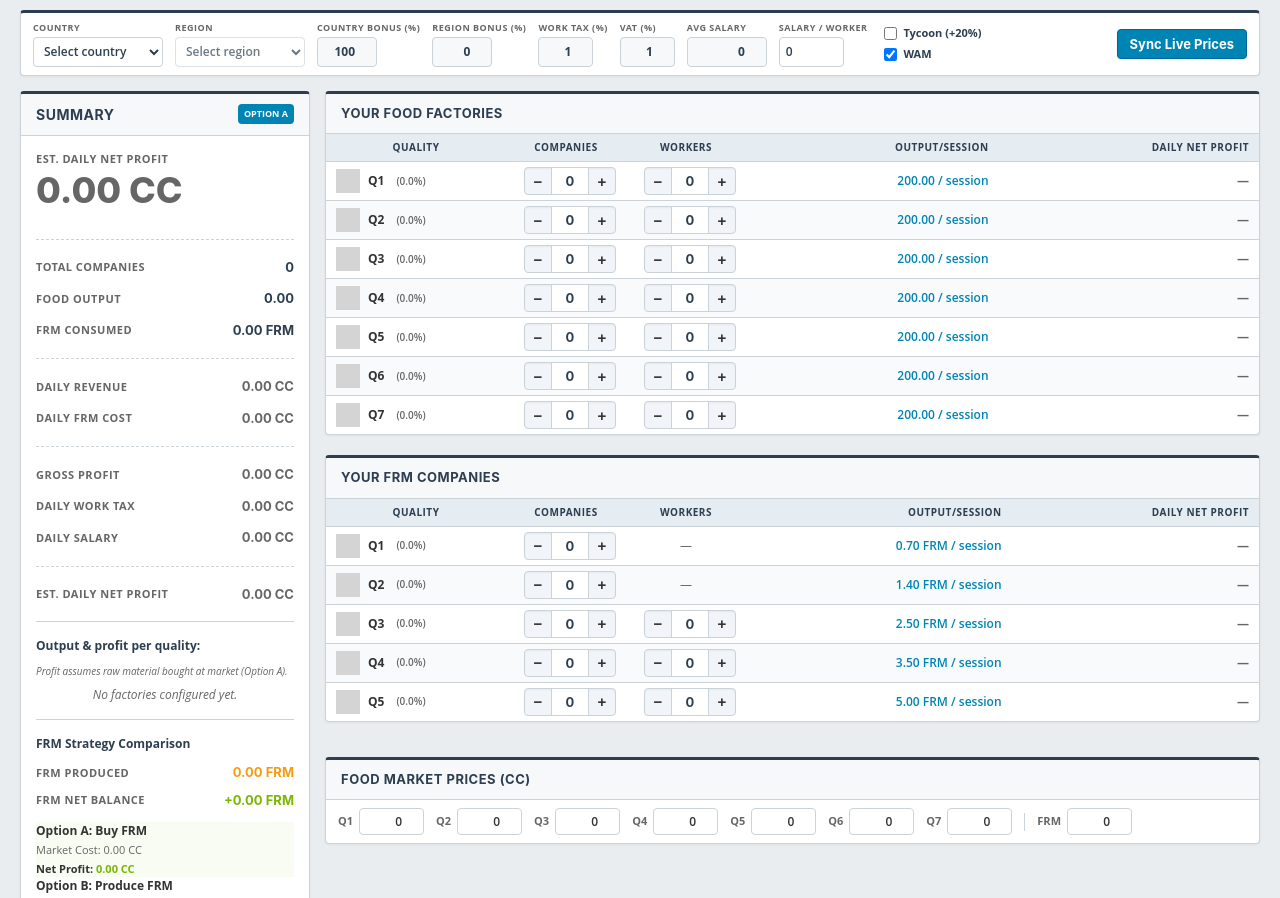
Test: IndustryView › per-card output includes the Tycoon bonus (regression: was hardcoded off)
The width and height of the screenshot is (1280, 898).
Check: the row with test id "factory-card-1" shows "200.00 / session", box [897,172,988,189]
// Enable Tycoon (+20%) → mult 2.2 → 220.00 / session
Click the checkbox labelled "Tycoon (+20%)". click: (891, 34)
box: [884,27,897,40]
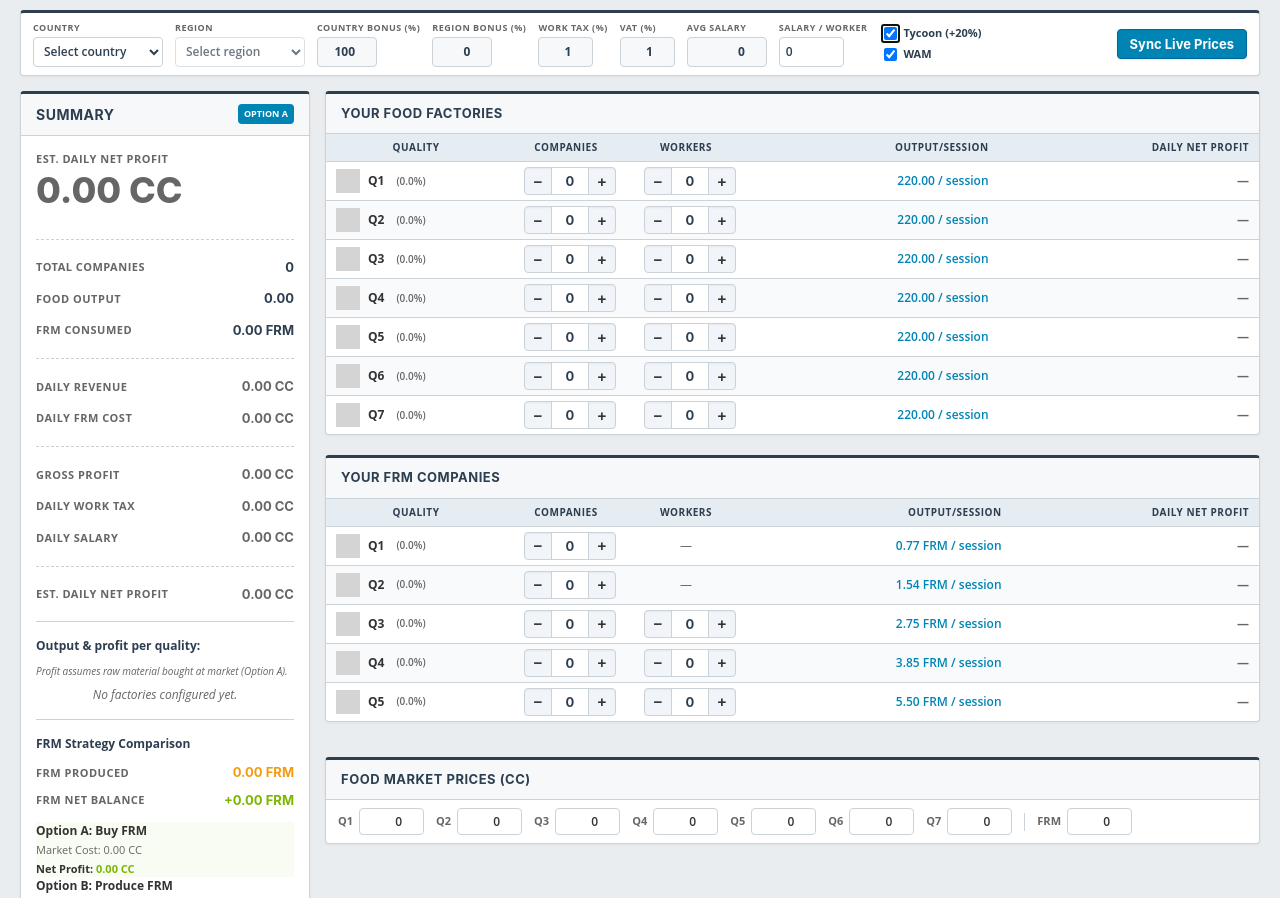
Check: the row with test id "factory-card-1" shows "220.00 / session", box [897,172,988,189]
